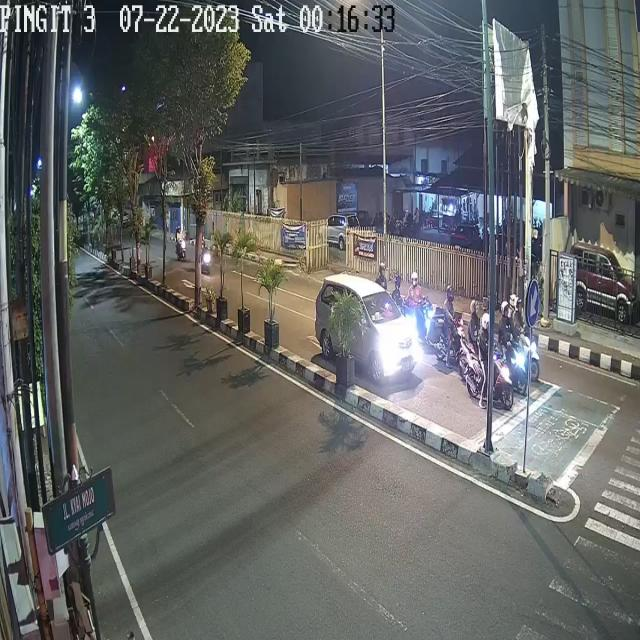car: (315, 273, 417, 386)
motorcycle: (466, 316, 512, 408), (497, 300, 528, 395), (509, 298, 540, 387), (432, 286, 462, 368), (411, 270, 438, 341), (199, 233, 211, 274), (174, 227, 186, 265)
